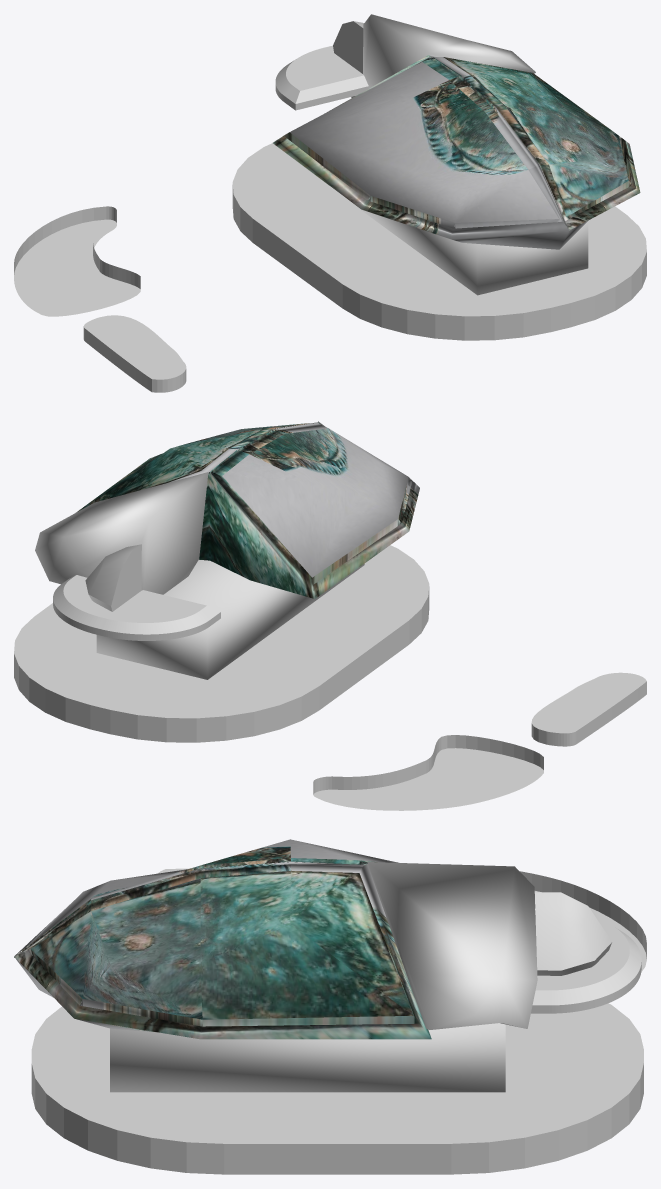
Rendered from scara.glb.
The picture shows the model from 3 angles, top to bottom: view 1: azimuth 30°, elevation 25°; view 2: azimuth 150°, elevation 25°; view 3: azimuth 270°, elevation 25°; orthographic projection. The views are drawn at different scales.
Parts seen in each view (by area): view 1: Cube.001, Cube.006, Point, Cube.003, Cube, Point.005, Cube.005, Cube.002; view 2: Cube.006, Cube.001, Cube, Cube.003, Point, Cube.005, Point.005, Cube.002; view 3: Cube.001, Cube.006, Cube.003, Cube, Cube.005, Cube.002, Point.
Boxes of the visible parts, left/top/right/bottom form: Cube.001: left=273, top=54, right=640, bottom=249; Cube.006: left=232, top=143, right=646, bottom=340; Point: left=14, top=206, right=140, bottom=316; Cube.003: left=321, top=179, right=588, bottom=295; Cube: left=363, top=14, right=535, bottom=88; Point.005: left=83, top=315, right=186, bottom=392; Cube.005: left=275, top=45, right=368, bottom=110; Cube.002: left=333, top=21, right=363, bottom=97; Cube.006: left=14, top=545, right=429, bottom=742; Cube.001: left=76, top=421, right=419, bottom=598; Cube: left=35, top=472, right=208, bottom=594; Cube.003: left=96, top=559, right=364, bottom=679; Point: left=313, top=735, right=543, bottom=810; Cube.005: left=53, top=575, right=220, bottom=640; Point.005: left=531, top=672, right=646, bottom=746; Cube.002: left=85, top=544, right=141, bottom=611; Cube.001: left=14, top=839, right=431, bottom=1039; Cube.006: left=31, top=1003, right=643, bottom=1174; Cube.003: left=110, top=1023, right=505, bottom=1092; Cube: left=367, top=862, right=537, bottom=1029; Cube.005: left=531, top=918, right=641, bottom=1013; Cube.002: left=534, top=892, right=611, bottom=975; Point: left=520, top=871, right=646, bottom=971.
Bounding box in the file's own units: 10.15 × 3.72 × 8.75.
2 materials, 1 textured.
